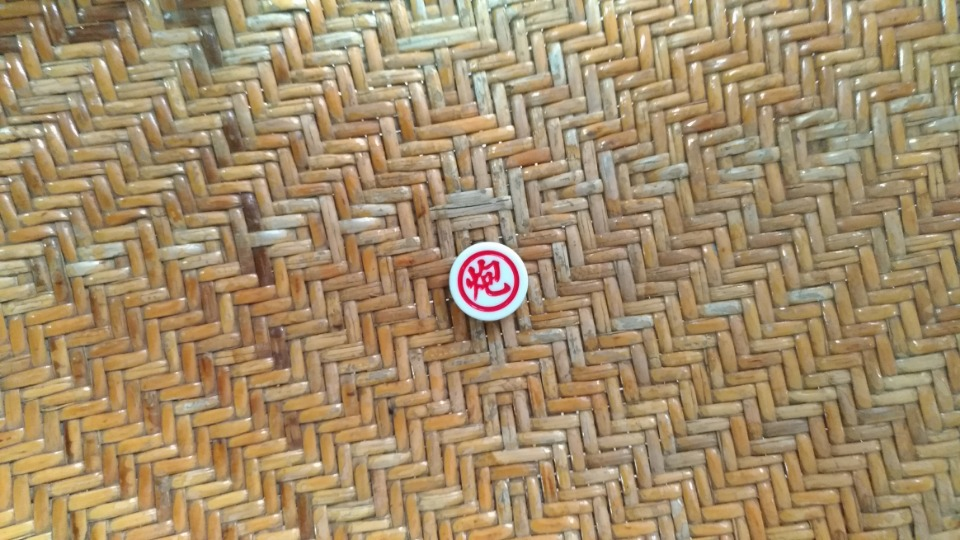r-cannon: (439, 228, 553, 341)
